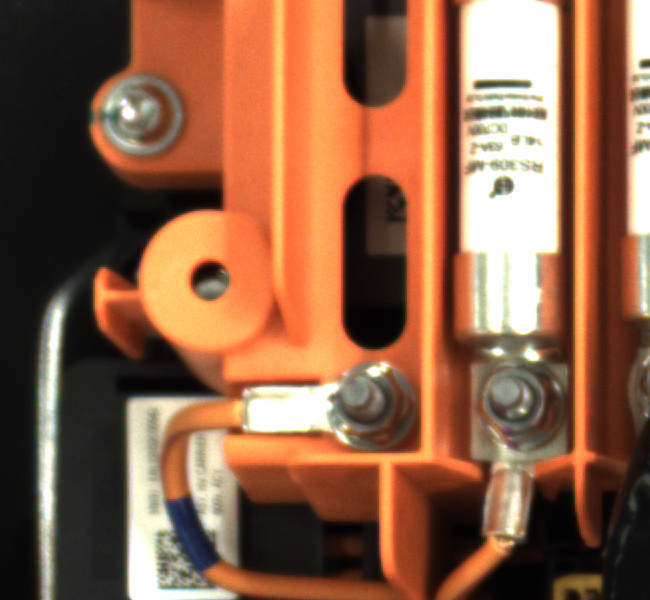screw_s: (457, 348, 573, 450), (321, 355, 428, 453)
